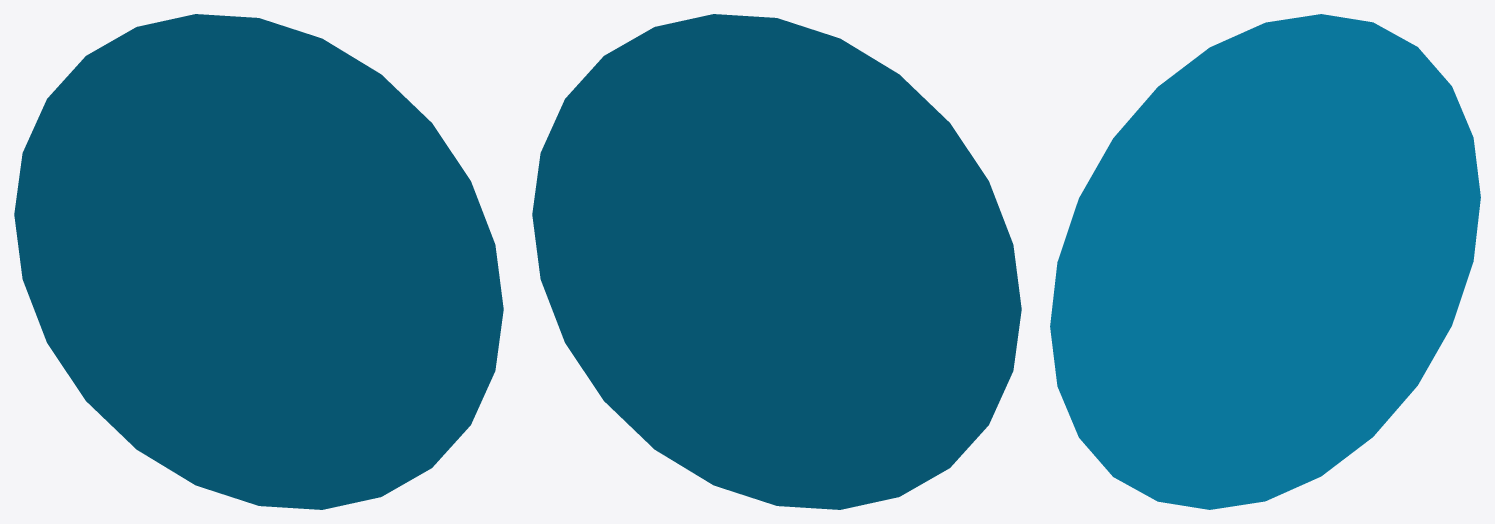
Rendered from original-30.obj.
The picture shows the model from 3 angles, left to right: view 1: azimuth 30°, elevation 25°; view 2: azimuth 210°, elevation 25°; view 3: azimuth 270°, elevation 25°; orthographic projection.
Parts seen in each view (by area): view 1: #ID327; view 2: #ID327; view 3: #ID327.
Boxes of the visible parts, x1,y1,x2,y2 form: #ID327: (14,14,503,509); #ID327: (532,14,1021,509); #ID327: (1050,14,1480,509).
Bounding box in the file's own units: 0.0245 × 0.0423 × 0.0345.
